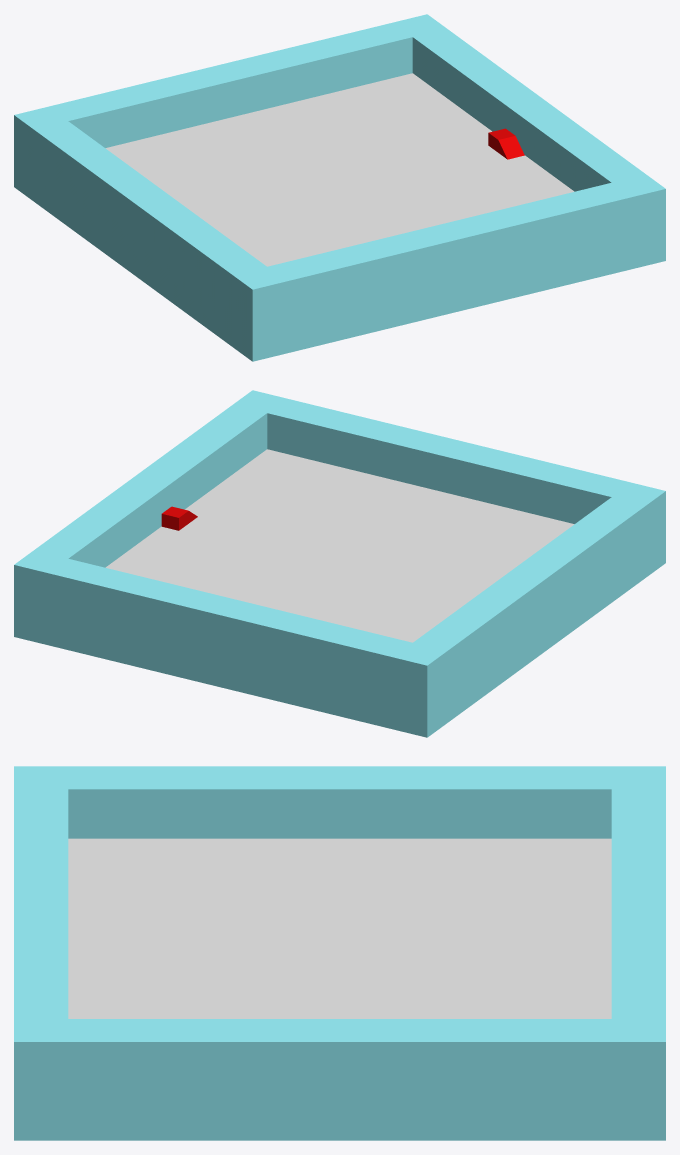
The model's file is world.glb.
3 renders of one model, top to bottom at view 1: azimuth 30°, elevation 25°; view 2: azimuth 150°, elevation 25°; view 3: azimuth 270°, elevation 25°, orthographic. The views are drawn at different scales.
Parts seen in each view (by area): view 1: Cube, Cube.004, Cube.001, Cube.003, Cube.002, Cube.005; view 2: Cube, Cube.003, Cube.001, Cube.004, Cube.002, Cube.005; view 3: Cube, Cube.002, Cube.001, Cube.003, Cube.004.
Boxes of the visible parts, x1=… form: Cube: x1=105, y1=73, x2=574, y2=266; Cube.004: x1=267, y1=183, x2=631, y2=353; Cube.001: x1=14, y1=106, x2=286, y2=361; Cube.003: x1=49, y1=22, x2=412, y2=147; Cube.002: x1=393, y1=14, x2=665, y2=268; Cube.005: x1=488, y1=128, x2=524, y2=159; Cube: x1=105, y1=449, x2=574, y2=642; Cube.003: x1=48, y1=559, x2=412, y2=729; Cube.001: x1=393, y1=482, x2=665, y2=737; Cube.004: x1=267, y1=398, x2=630, y2=523; Cube.002: x1=14, y1=390, x2=286, y2=644; Cube.005: x1=161, y1=506, x2=197, y2=530; Cube: x1=68, y1=838, x2=611, y2=1018; Cube.002: x1=14, y1=1019, x2=665, y2=1140; Cube.001: x1=14, y1=766, x2=665, y2=838; Cube.003: x1=611, y1=789, x2=665, y2=1018; Cube.004: x1=14, y1=789, x2=68, y2=1018.
Size of the model in its own units: 24 by 4 by 24.
